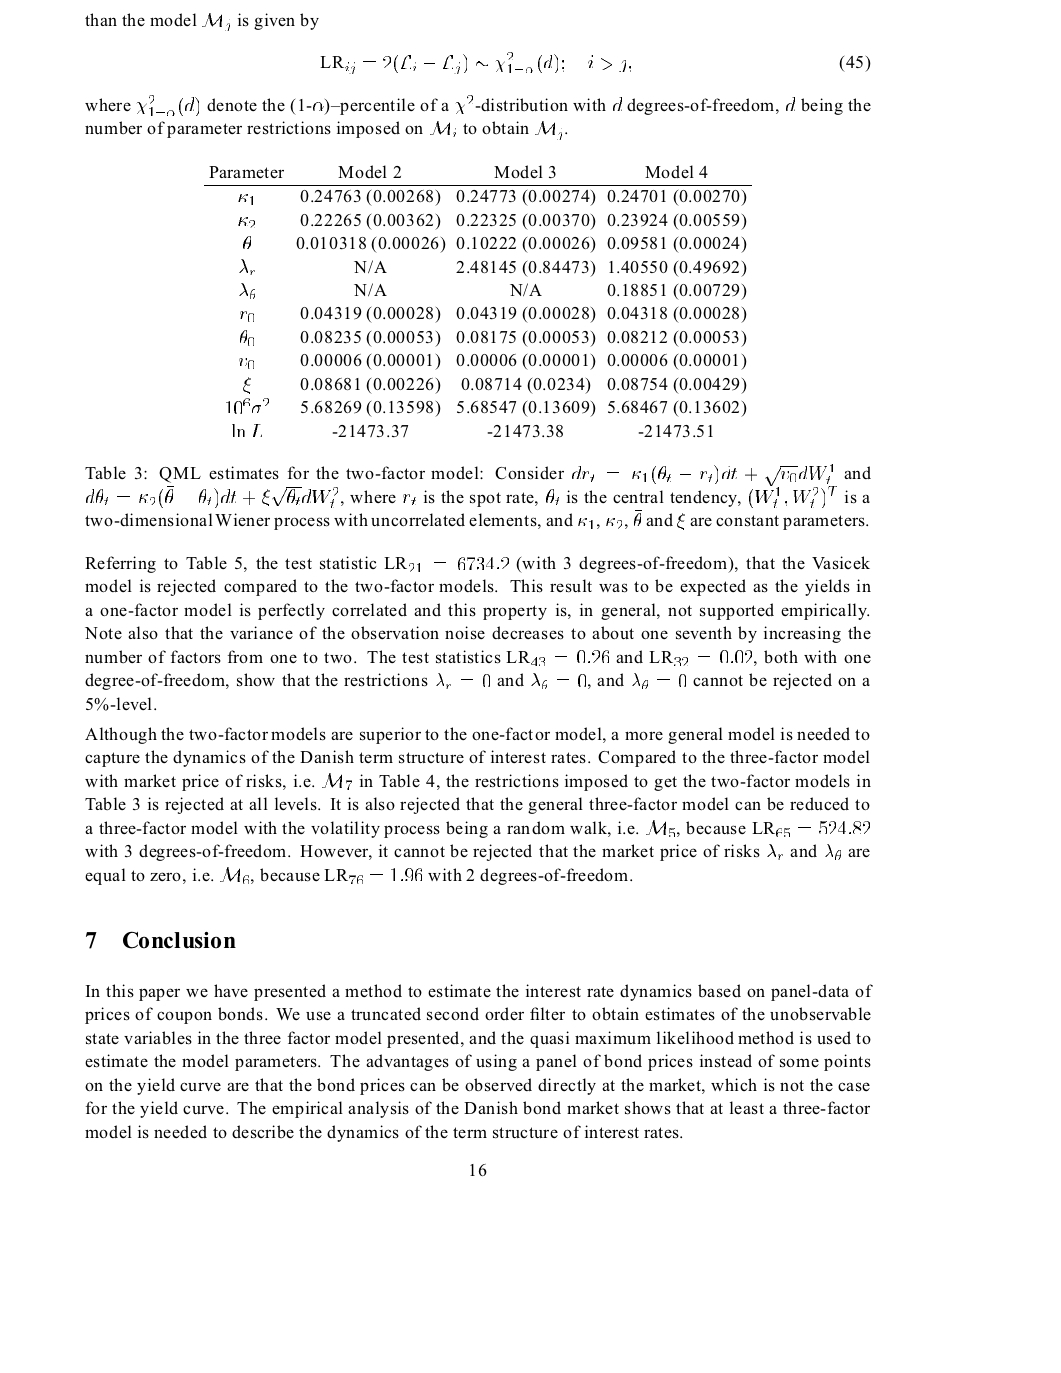Table: (204, 165, 751, 437)
formula: (320, 51, 870, 74)
